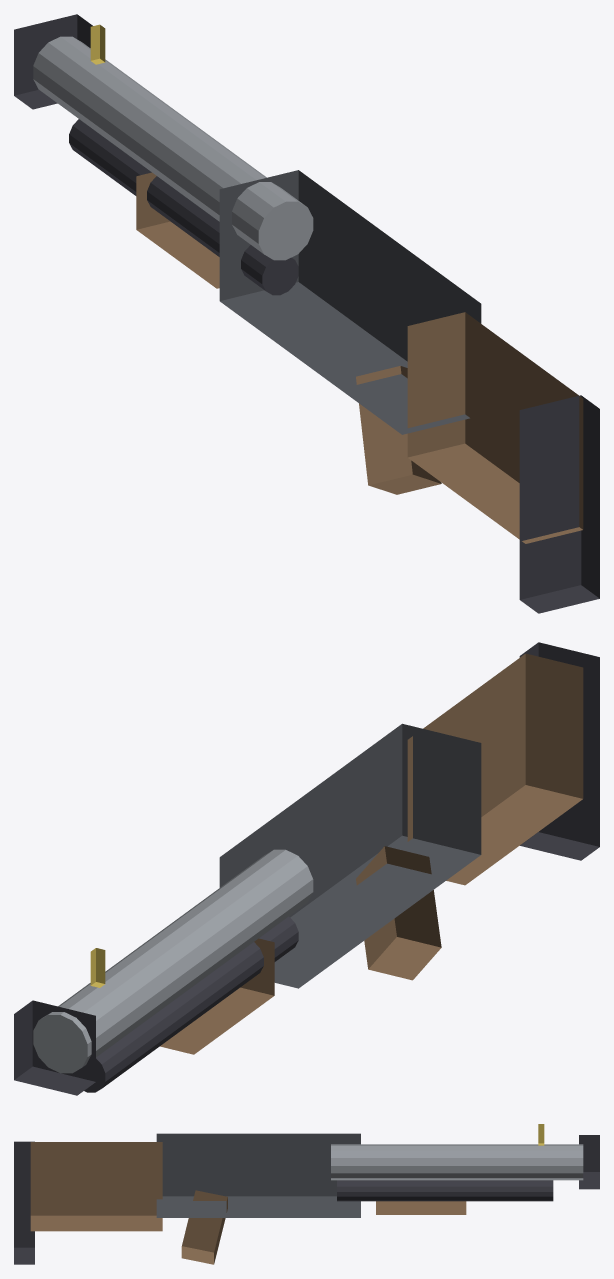
Rendered from shotgun.glb.
3 renders of one model, top to bottom at view 1: azimuth 30°, elevation 25°; view 2: azimuth 150°, elevation 25°; view 3: azimuth 270°, elevation 25°, orthographic. The views are drawn at different scales.
Parts seen in each view (by area): view 1: stock, receiver, barrel; view 2: receiver, barrel, stock; view 3: receiver, barrel, stock.
Boxes of the visible parts, x1,y1,x2,y2 form: stock: (407, 312, 599, 613); receiver: (219, 170, 481, 494); barrel: (14, 14, 313, 295); receiver: (219, 723, 481, 988); barrel: (14, 849, 313, 1095); stock: (407, 642, 599, 885); receiver: (156, 1133, 360, 1264); barrel: (331, 1124, 599, 1214); stock: (14, 1141, 162, 1264).
Size of the model in its own units: 0.085 by 0.2447 by 0.975.
